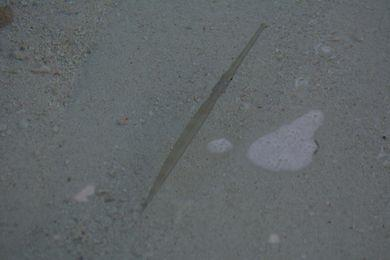Fistularia commersonii: (142, 3, 272, 245)
